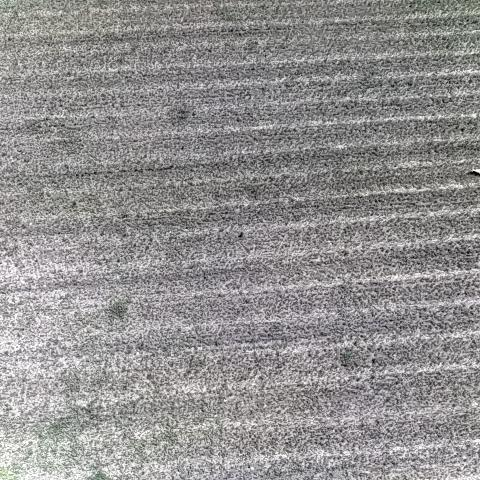person: (468, 163, 480, 181)
